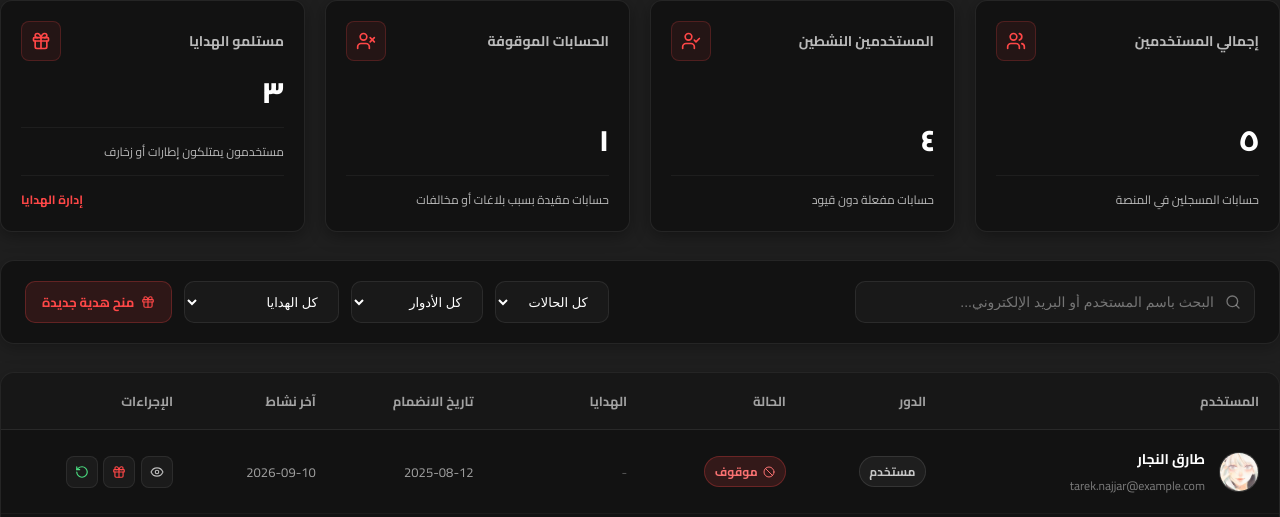
Test: AdminUsers Component › reactivates a suspended user directly
Click the button named "إلغاء تعليق طارق النجار" at point(82, 472), box [66,456,98,488]
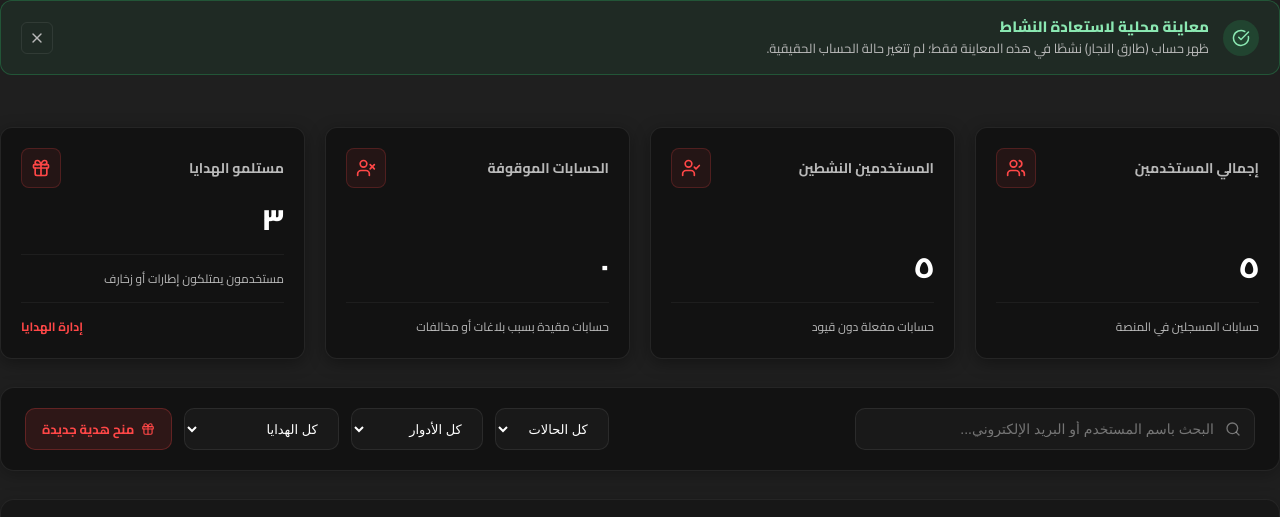
Now the heading "معاينة محلية لاستعادة النشاط" is shown, box [1000,12,1209,41]
